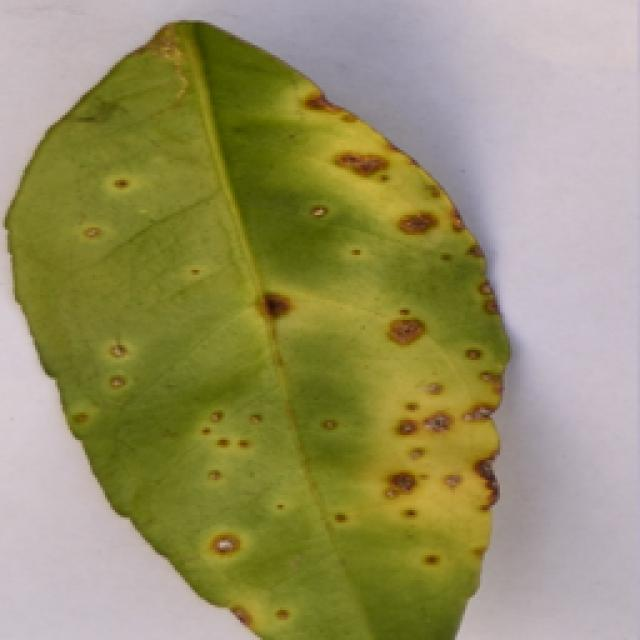canker: (2, 22, 510, 640)
